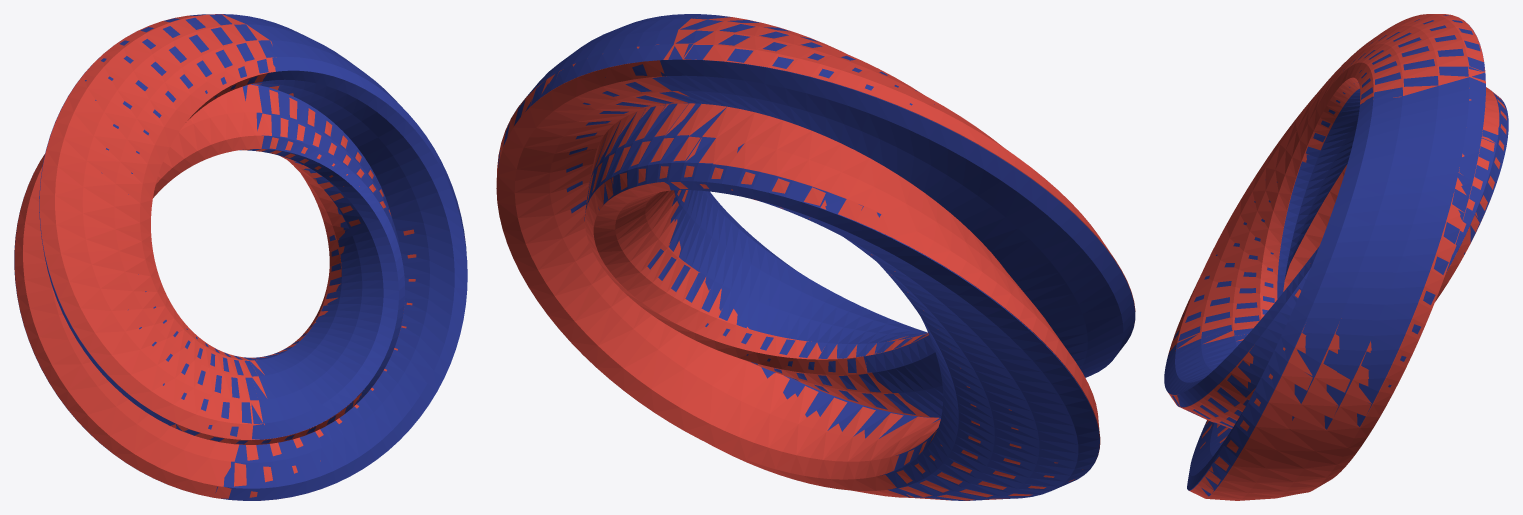
The model's file is klein.glb.
3 views of the same model, side by side, from view 1: azimuth 30°, elevation 25°; view 2: azimuth 150°, elevation 25°; view 3: azimuth 270°, elevation 25° (orthographic). The views are drawn at different scales.
Visible parts, largest first — view 1: z-fighting; view 2: z-fighting; view 3: z-fighting.
Boxes of the visible parts, bbox=[...] form: z-fighting: bbox=[14, 14, 467, 500]; z-fighting: bbox=[496, 14, 1135, 500]; z-fighting: bbox=[1164, 14, 1508, 500].
Size of the model in its own units: 0.377 by 0.3471 by 0.2513.
